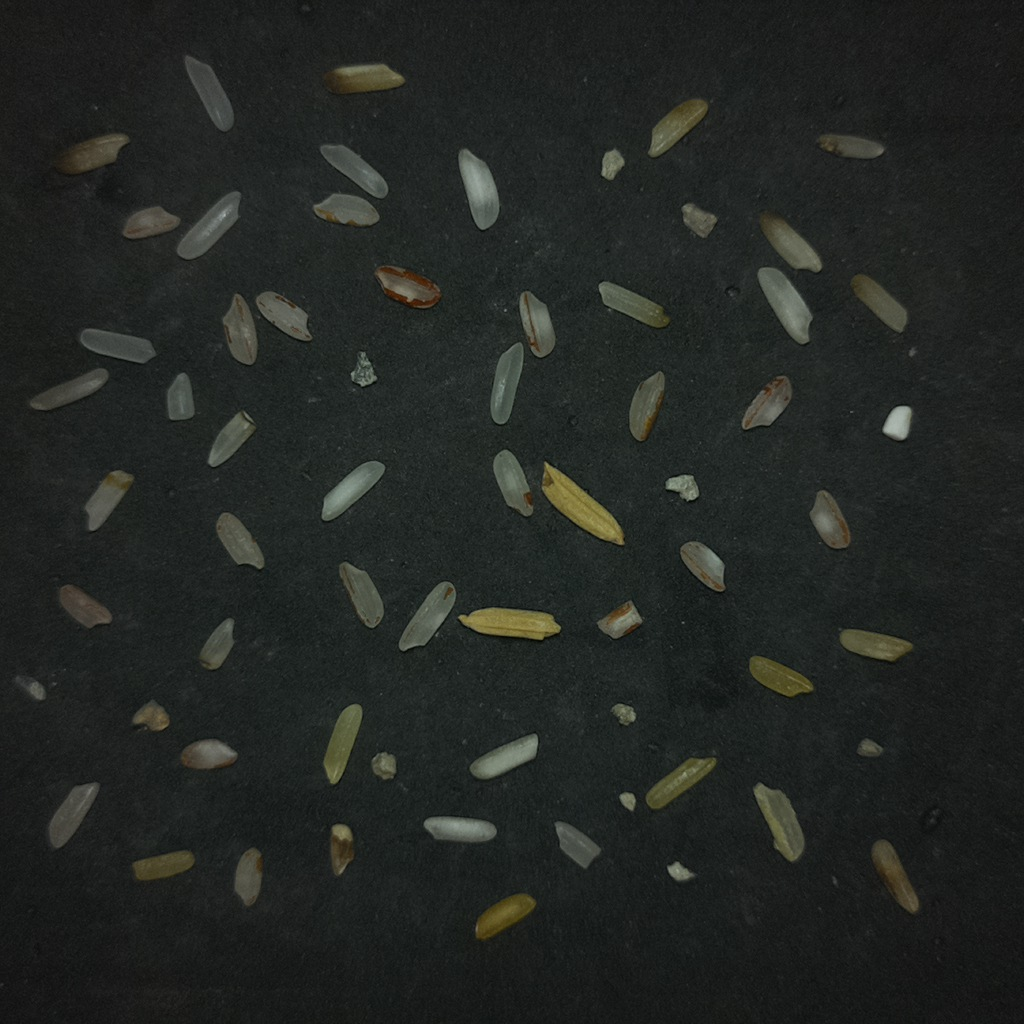broken: (216, 512, 264, 568), (58, 584, 111, 628), (313, 193, 378, 226), (555, 821, 599, 866), (199, 617, 234, 669), (166, 372, 194, 421), (856, 738, 883, 757)
chalky: (757, 267, 812, 343), (322, 461, 383, 518), (470, 733, 537, 778), (459, 149, 497, 228), (424, 816, 495, 841), (882, 405, 912, 440)
damaged: (753, 782, 804, 862), (759, 211, 821, 272), (871, 840, 919, 913), (648, 99, 707, 156), (598, 281, 669, 327), (851, 274, 907, 332), (54, 133, 129, 174), (84, 470, 133, 531), (207, 410, 255, 467), (323, 64, 405, 94), (817, 133, 884, 158), (330, 824, 354, 876)
discolored: (645, 757, 716, 809), (323, 704, 362, 784), (475, 893, 535, 940), (748, 656, 813, 697), (839, 629, 912, 661), (132, 850, 194, 880)
foreign: (682, 202, 717, 238), (132, 700, 169, 731), (13, 674, 45, 701), (350, 351, 375, 385), (601, 148, 626, 181), (666, 475, 697, 500), (371, 752, 396, 780), (610, 703, 636, 726), (667, 861, 693, 881), (619, 791, 636, 811)
paddy: (542, 462, 624, 545), (459, 607, 560, 639)
red: (399, 581, 455, 651), (339, 562, 383, 628), (374, 265, 441, 308), (741, 376, 792, 430), (256, 291, 311, 341), (494, 449, 533, 516), (222, 293, 257, 364), (629, 371, 664, 441), (809, 490, 850, 549), (520, 291, 555, 357), (680, 541, 723, 591), (122, 206, 180, 239), (180, 738, 237, 769), (597, 600, 642, 638), (234, 848, 262, 906)
whole: (177, 192, 240, 259), (185, 56, 232, 129), (28, 368, 108, 410), (321, 144, 386, 195), (48, 782, 98, 847), (80, 328, 154, 362), (490, 343, 520, 423)
